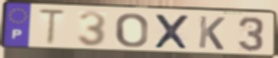3: (76, 9, 108, 49), (237, 16, 267, 54)
K: (197, 14, 227, 51)
O: (114, 12, 150, 49)
T: (37, 8, 69, 48)
X: (153, 13, 191, 51)
